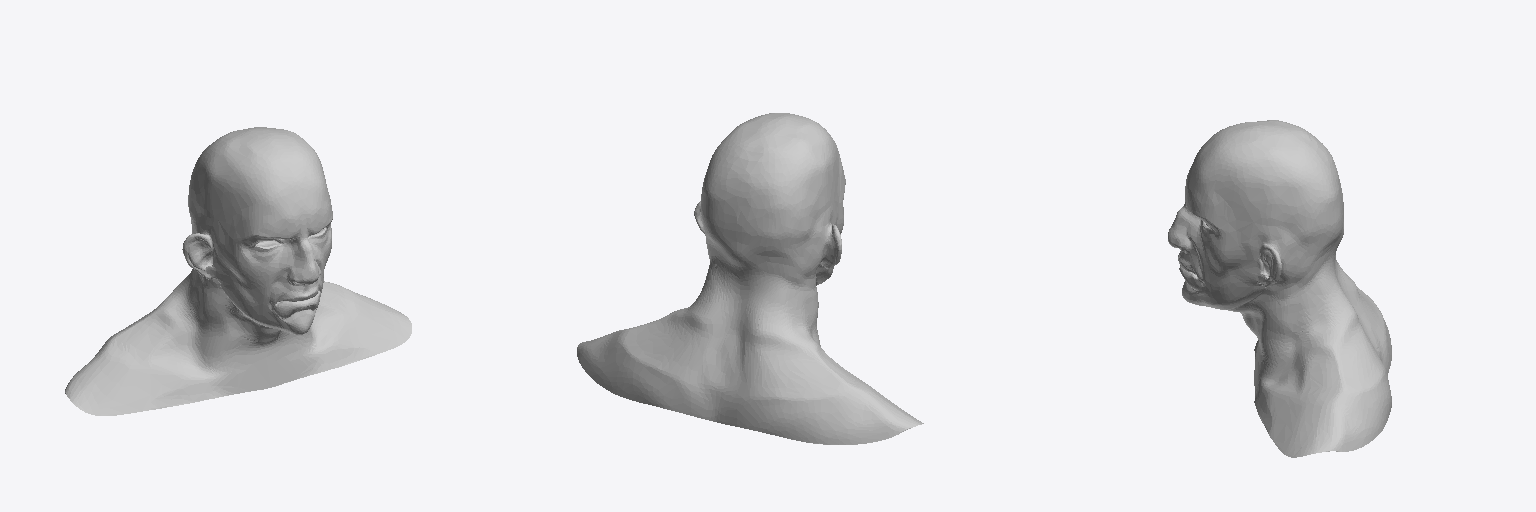
Rendered from Thug02_head.OBJ.
The picture shows the model from 3 angles: view 1: azimuth 30°, elevation 25°; view 2: azimuth 150°, elevation 25°; view 3: azimuth 270°, elevation 25°; orthographic projection.
Visible parts, largest first — view 1: Group36768; view 2: Group36768; view 3: Group36768.
Boxes of the visible parts, box(x1,y1,x2,y2) form: Group36768: box(65, 127, 411, 415); Group36768: box(577, 113, 923, 444); Group36768: box(1168, 120, 1391, 457).
Bounding box in the file's own units: 4.66 × 3.36 × 2.68.